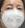with_mask: (1, 1, 25, 28)
